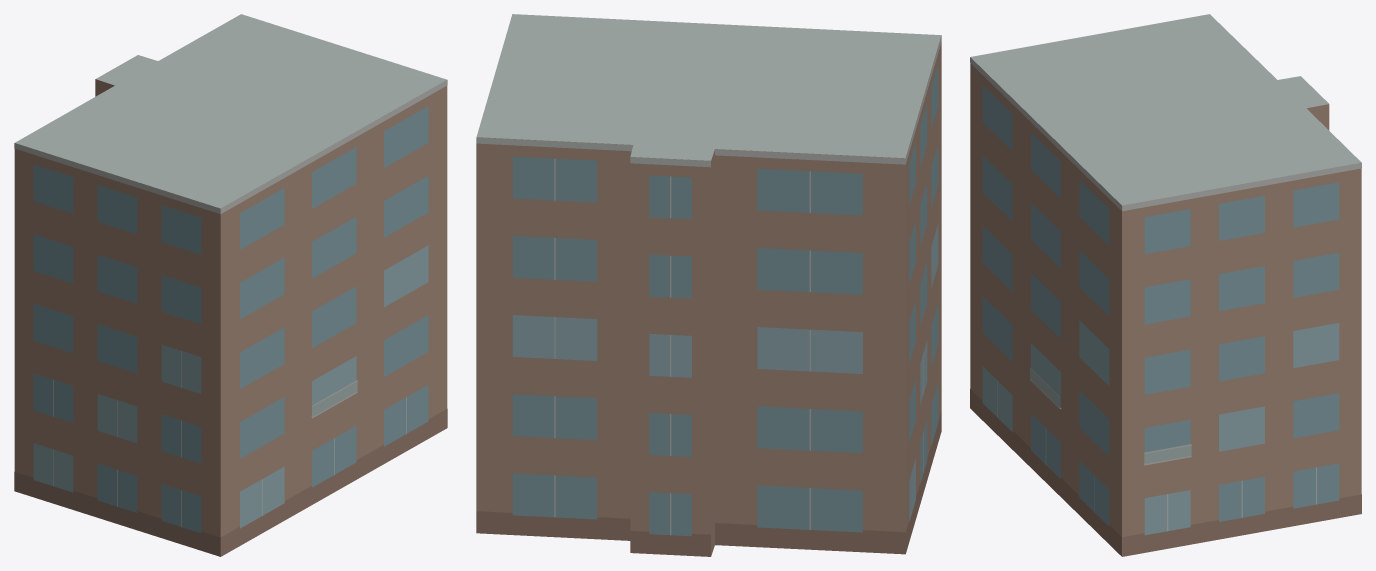
The model's file is survey-upis-32877437.glb.
The picture shows the model from 3 angles, left to right: view 1: azimuth 30°, elevation 25°; view 2: azimuth 150°, elevation 25°; view 3: azimuth 270°, elevation 25°; orthographic projection. The views are drawn at different scales.
Visible parts, largest first — view 1: survey-upis-32877437.tmp; view 2: survey-upis-32877437.tmp; view 3: survey-upis-32877437.tmp.
Boxes of the visible parts, left/top/right/bottom form: survey-upis-32877437.tmp: left=14, top=14, right=447, bottom=556; survey-upis-32877437.tmp: left=476, top=14, right=941, bottom=556; survey-upis-32877437.tmp: left=970, top=14, right=1361, bottom=556.
Size of the model in its own units: 17.62 by 15.05 by 15.22.
